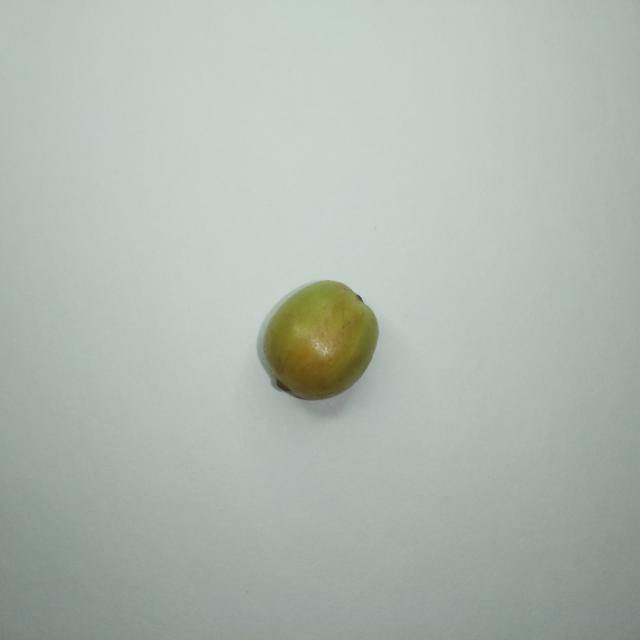Sano: (258, 280, 378, 400)
